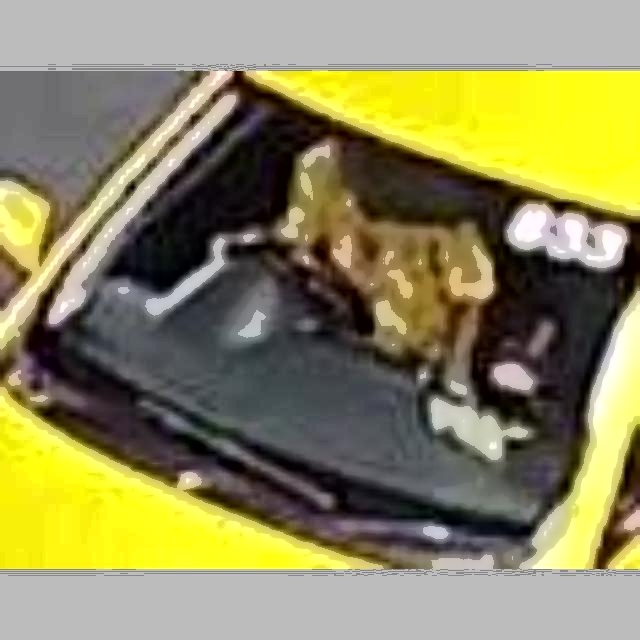tidak-pakai: (190, 147, 488, 413)
